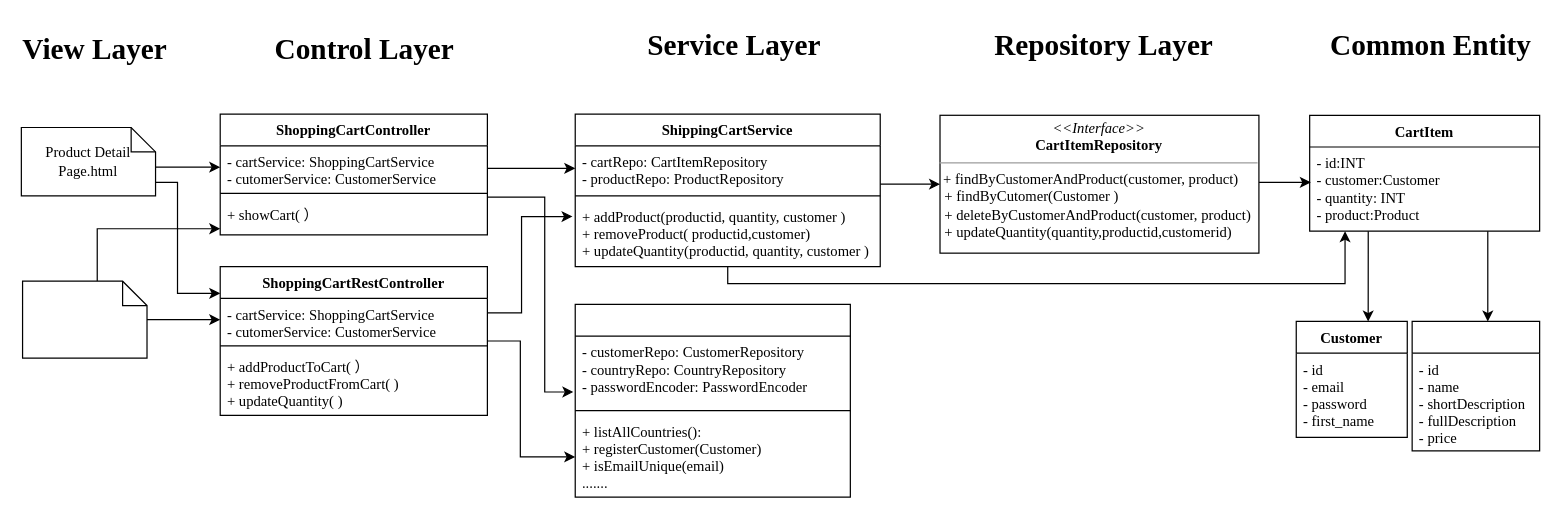
The diagram is 1562 pixels wide and 521 high, and some of its shapes have lost their labels. Each missing label, with the box of its shape:
CustomerService: (574, 303, 850, 497)
Product: (1411, 320, 1540, 451)
Shopping Cart Page.html: (21, 280, 147, 358)
